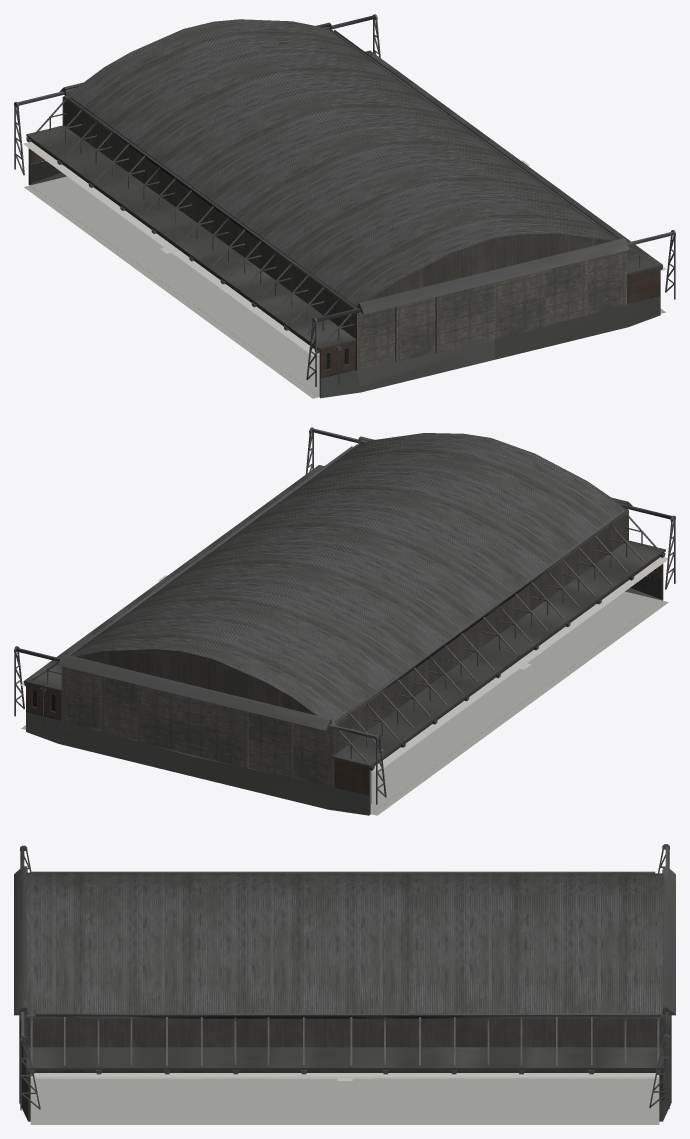
The model's file is hangar-j.zfix-v17.lod1.glb.
The picture shows the model from 3 angles, top to bottom: view 1: azimuth 30°, elevation 25°; view 2: azimuth 150°, elevation 25°; view 3: azimuth 270°, elevation 25°; orthographic projection. The views are drawn at different scales.
Parts seen in each view (by area): view 1: Object_2, Walkable floors and stairs (×2); view 2: Object_2, Walkable floors and stairs (×2); view 3: Object_2, Walkable floors and stairs (×2).
Part boxes in pixels (x1,y1,x2,y2): Object_2: [14, 14, 675, 398]; Walkable floors and stairs (×2): [24, 142, 665, 398]; Object_2: [14, 427, 675, 815]; Walkable floors and stairs (×2): [21, 557, 668, 815]; Object_2: [14, 844, 675, 1121]; Walkable floors and stairs (×2): [30, 1073, 659, 1124].
Bounding box in the file's own units: 61.89 × 19.3 × 89.88.
Materials: 3 (1 with a texture image).
